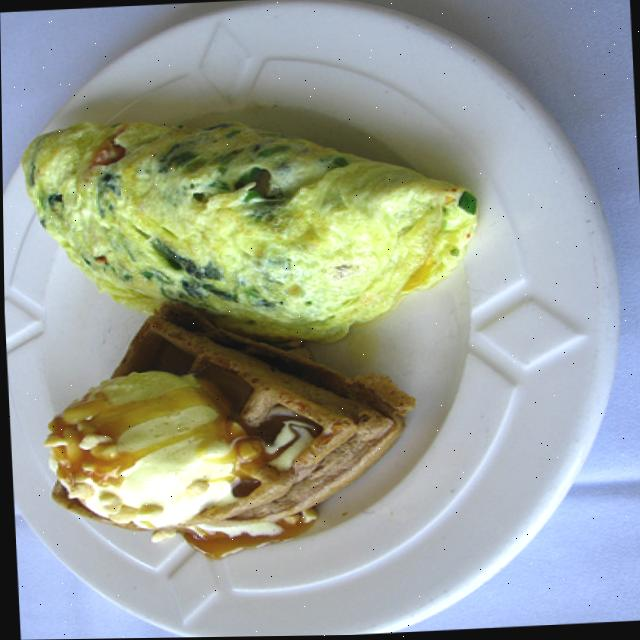鸡蛋料理: (1, 54, 485, 370)
